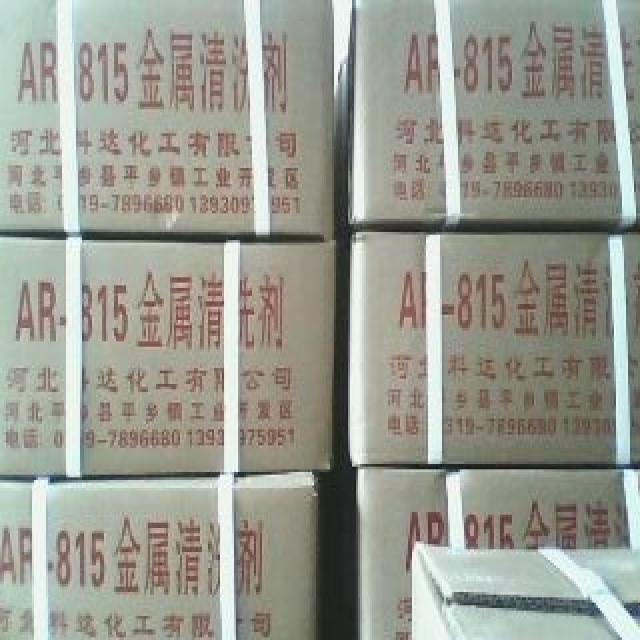box: (0, 1, 333, 237), (1, 239, 335, 474), (350, 230, 638, 464), (353, 0, 638, 227), (0, 475, 320, 637), (358, 465, 638, 637)
